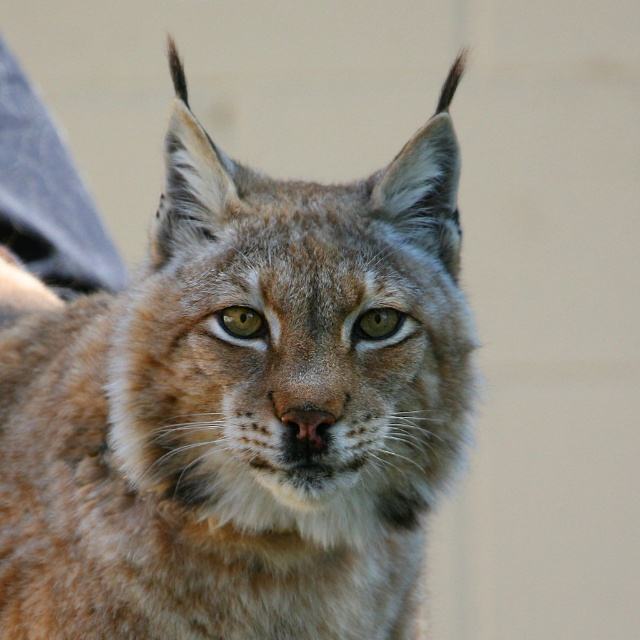Lynx: (0, 28, 486, 640)
